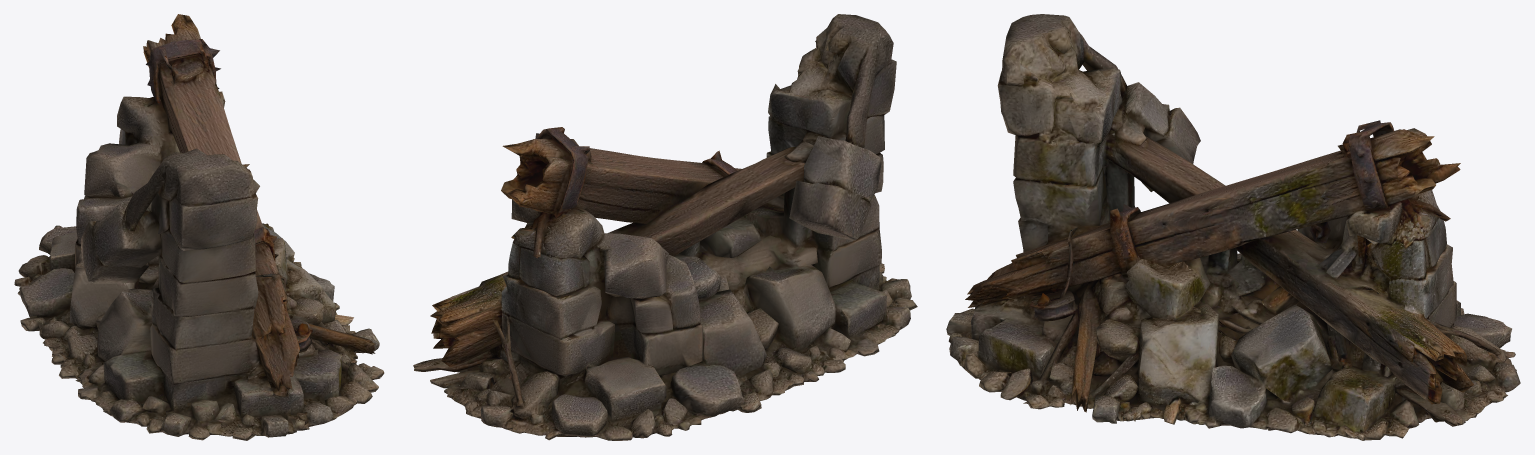
Rendered from collapsed-timber-masonry-pile.glb.
3 views of the same model, side by side, from view 1: azimuth 30°, elevation 25°; view 2: azimuth 150°, elevation 25°; view 3: azimuth 270°, elevation 25° (orthographic). The views are drawn at different scales.
Visible parts, largest first — view 1: tripo_node_2e428d37-d7d4-4ecf-8c24-1e16a4fb101f; view 2: tripo_node_2e428d37-d7d4-4ecf-8c24-1e16a4fb101f; view 3: tripo_node_2e428d37-d7d4-4ecf-8c24-1e16a4fb101f.
Boxes of the visible parts, left/top/right/bottom form: tripo_node_2e428d37-d7d4-4ecf-8c24-1e16a4fb101f: left=14, top=14, right=384, bottom=440; tripo_node_2e428d37-d7d4-4ecf-8c24-1e16a4fb101f: left=413, top=14, right=917, bottom=440; tripo_node_2e428d37-d7d4-4ecf-8c24-1e16a4fb101f: left=946, top=14, right=1520, bottom=440.
Bounding box in the file's own units: 0.6888 × 0.5582 × 1.
Materials: 1 (1 with a texture image).
